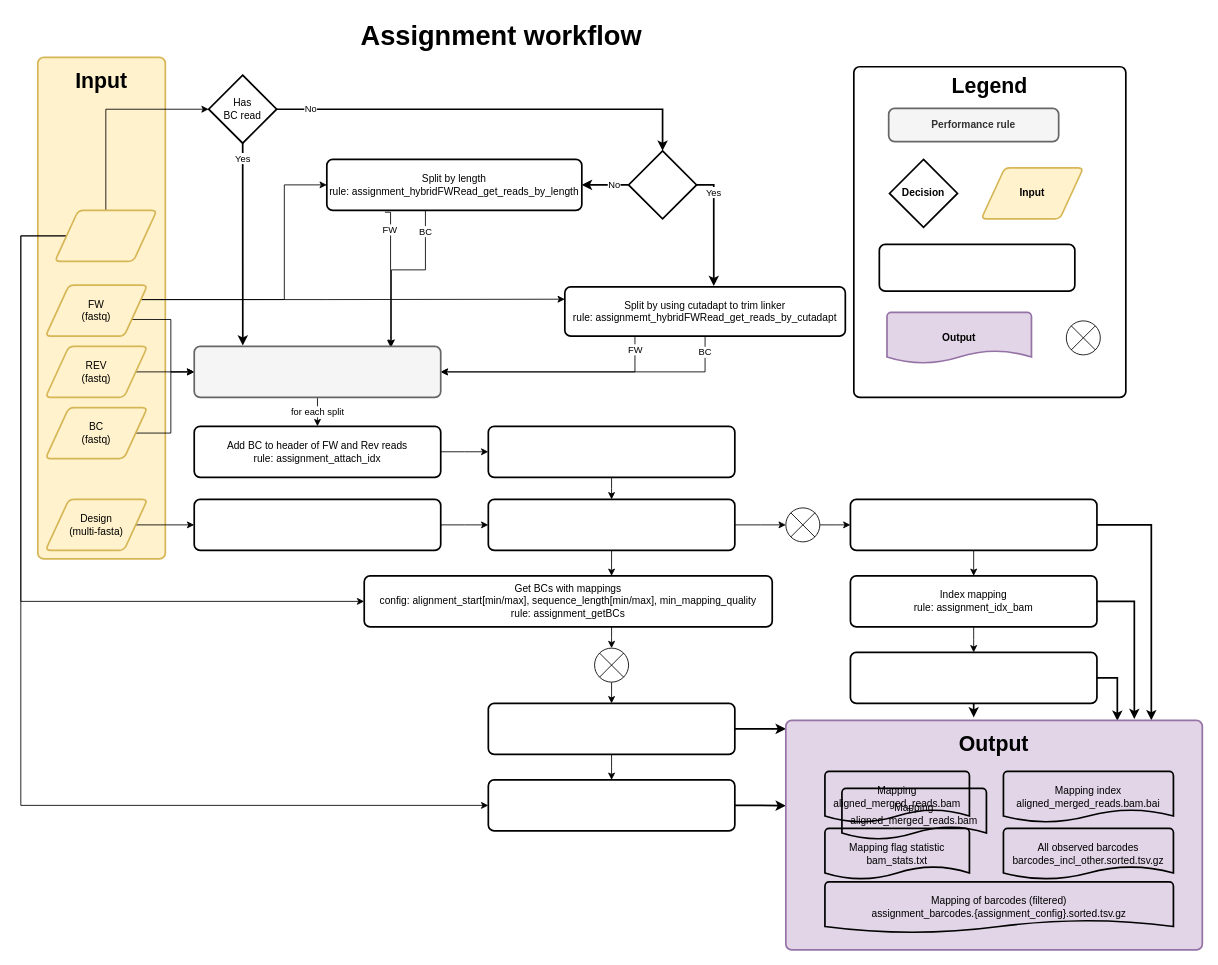
Image size: 1218x965. Some labels were removed from this diagram. The box of each missing label's shape, as (x1, y1, x2, y2) in pixels:
Collect all BCs in a sorted file rule: assignment_collectBCs: (487, 702, 735, 755)
Collect mapped reads. rule: assignment_collect: (849, 498, 1097, 551)
Concatenation: (1065, 320, 1100, 355)
Config (yaml/json): (54, 209, 157, 262)
Create BWA reference rule: assignment_bwa_ref: (193, 498, 441, 551)
Filter BCs config: min_support, fraction rule: assignment_filter: (487, 779, 735, 831)
Map reads to design using BWA rule: assignment_mapping: (487, 498, 735, 551)
Merge FW and REV reads rule: assignment_merge: (487, 425, 735, 478)
Rule: (878, 243, 1075, 292)
Samtools flagstat rule: assignment_flagstat: (849, 651, 1097, 704)
Split reads using fastqsplitter (performance) rule: assignment_fastq_split: (193, 345, 441, 398)
Use linker: (627, 150, 697, 219)
